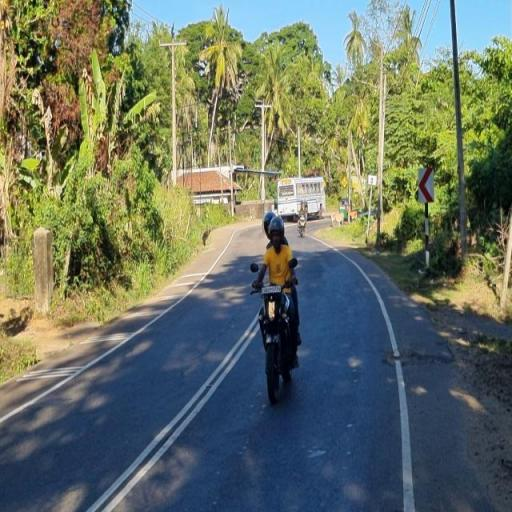double_white_line: (82, 311, 258, 510)
